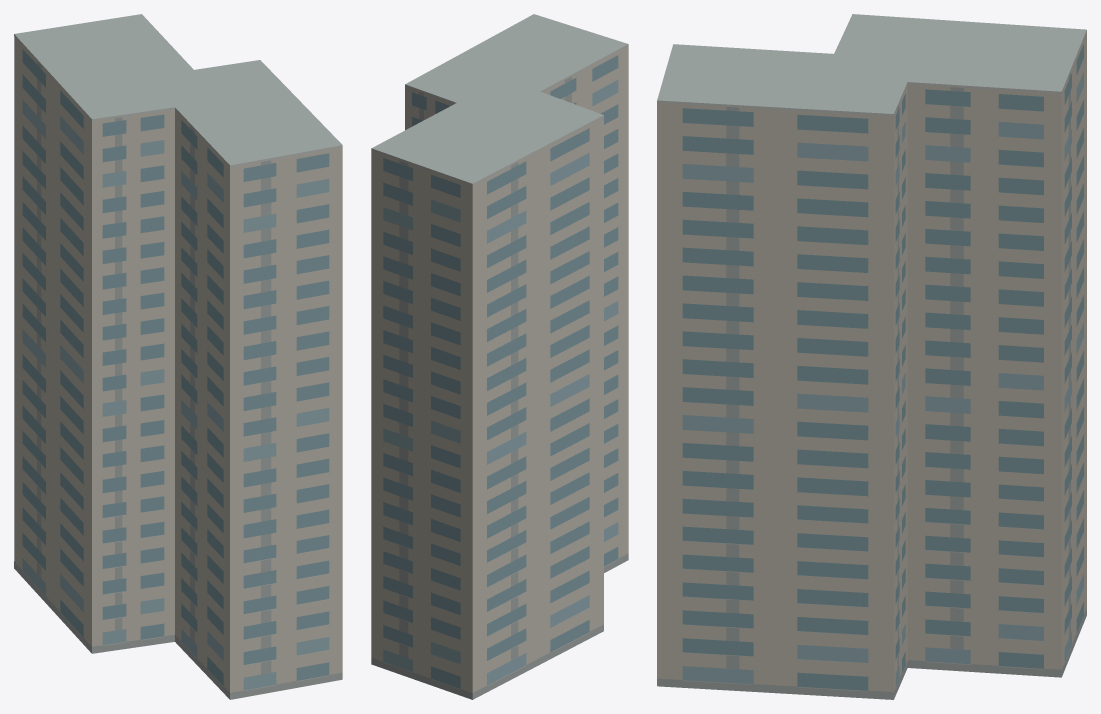
The model's file is residential-c7c0c296-7988-4bd0-8d4d-2c91b1aeea7d.glb.
3 views of the same model, side by side, from view 1: azimuth 30°, elevation 25°; view 2: azimuth 150°, elevation 25°; view 3: azimuth 270°, elevation 25° (orthographic). The views are drawn at different scales.
Visible parts, largest first — view 1: residential-c7c0c296-7988-4bd0-8d4d-2c91b1aeea7d.tmp; view 2: residential-c7c0c296-7988-4bd0-8d4d-2c91b1aeea7d.tmp; view 3: residential-c7c0c296-7988-4bd0-8d4d-2c91b1aeea7d.tmp.
Part boxes in pixels (bbox=[...]): residential-c7c0c296-7988-4bd0-8d4d-2c91b1aeea7d.tmp: bbox=[14, 14, 342, 699]; residential-c7c0c296-7988-4bd0-8d4d-2c91b1aeea7d.tmp: bbox=[371, 14, 628, 699]; residential-c7c0c296-7988-4bd0-8d4d-2c91b1aeea7d.tmp: bbox=[657, 14, 1086, 699].
Bounding box in the file's own units: 21.25 × 58 × 38.57.
